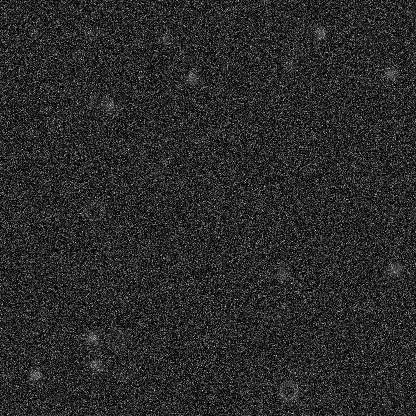Ring: (82, 198, 106, 222), (104, 327, 128, 351), (276, 379, 300, 403)
Spot: (115, 368, 131, 384), (203, 123, 219, 139), (150, 166, 166, 182), (303, 158, 319, 174), (312, 24, 328, 40), (101, 97, 117, 113), (281, 58, 297, 74), (86, 95, 102, 111), (386, 262, 402, 278), (83, 24, 99, 40), (183, 69, 199, 85), (83, 329, 99, 345), (167, 34, 183, 50), (156, 31, 172, 47), (27, 366, 43, 382), (382, 64, 398, 80), (274, 264, 290, 280), (191, 131, 207, 147), (87, 356, 103, 372)
